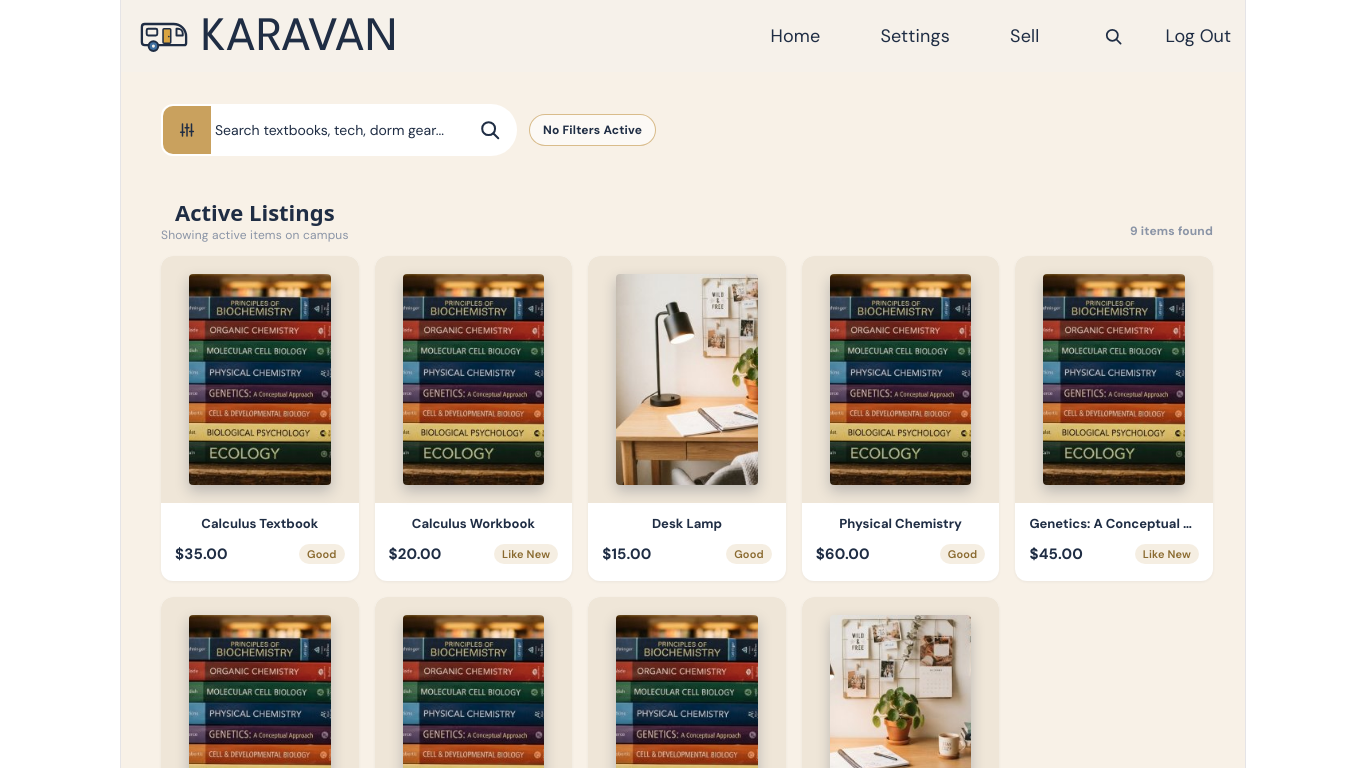
Scenario: ProductSearch category filtering › finds listings by their related course number
Type "MTH 141" into the field named "Search products". click: (345, 130)
box: [211,106,479,154]
Wait 350 ms
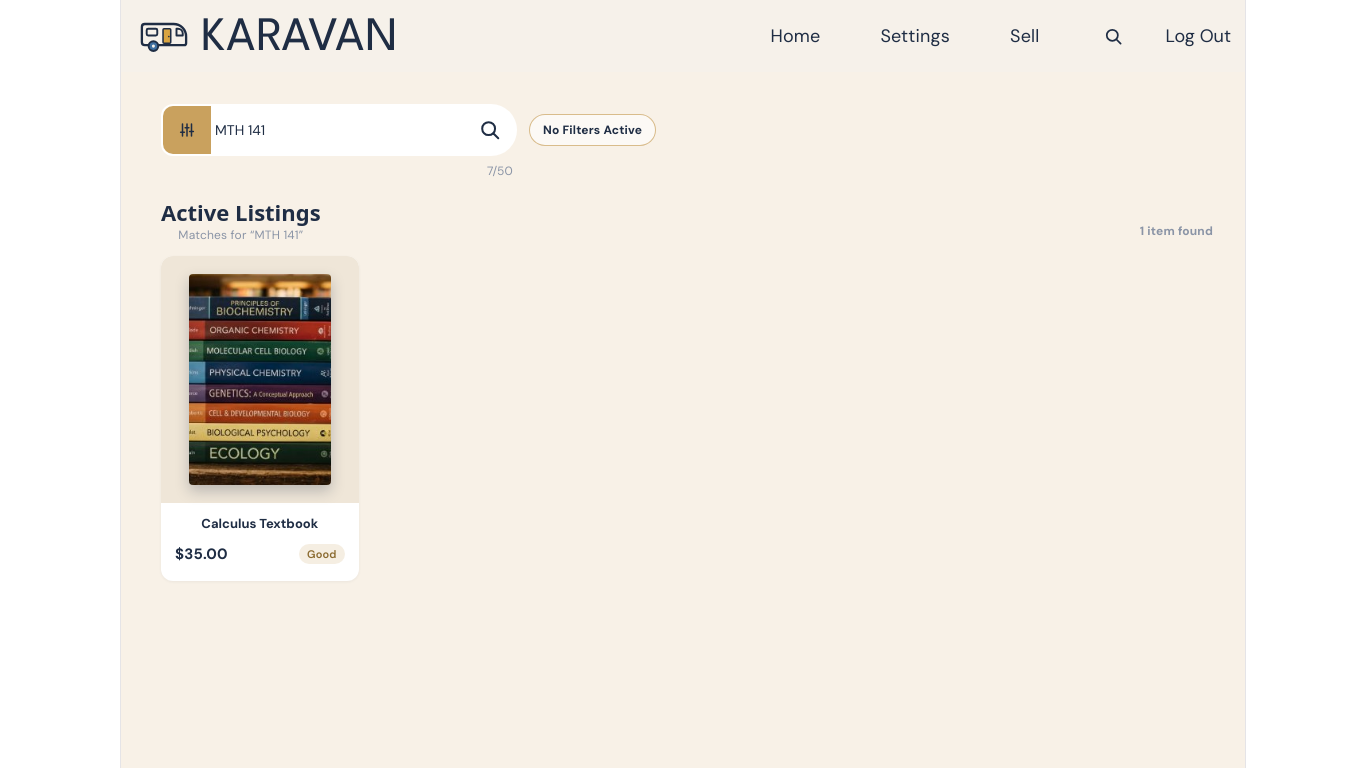
Expected: the link "Calculus Textbook" is shown, [201,515,318,532]
Expected: the text "1 item found" is shown, [1140,218,1213,244]
Expected: the link "Calculus Workbook" is gone
